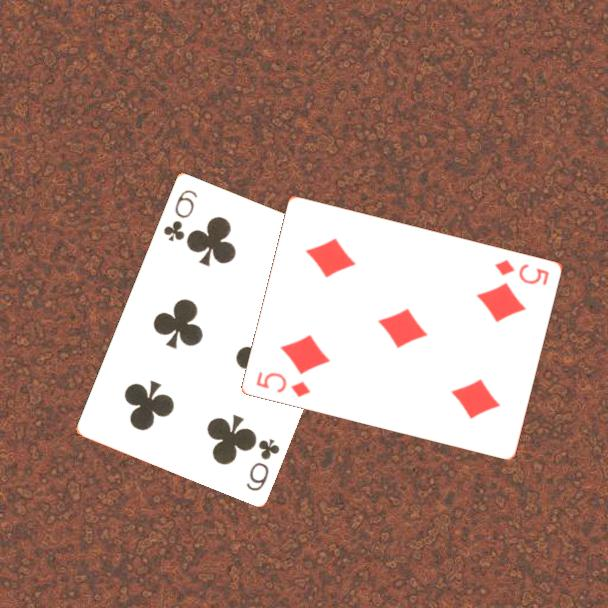c06: (242, 434, 282, 494), (160, 186, 200, 244)
d05: (491, 256, 552, 288), (253, 368, 314, 400)
